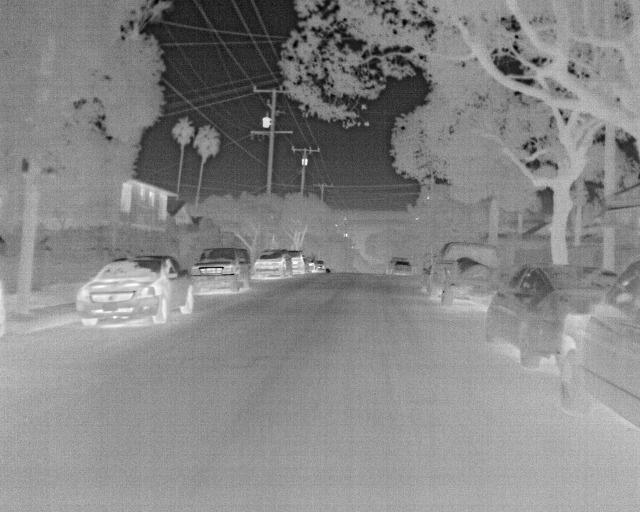car: (480, 266, 620, 370), (556, 256, 639, 430), (74, 252, 194, 330), (428, 238, 506, 310), (187, 246, 253, 296), (249, 251, 293, 281), (282, 251, 308, 277), (387, 256, 413, 277)
